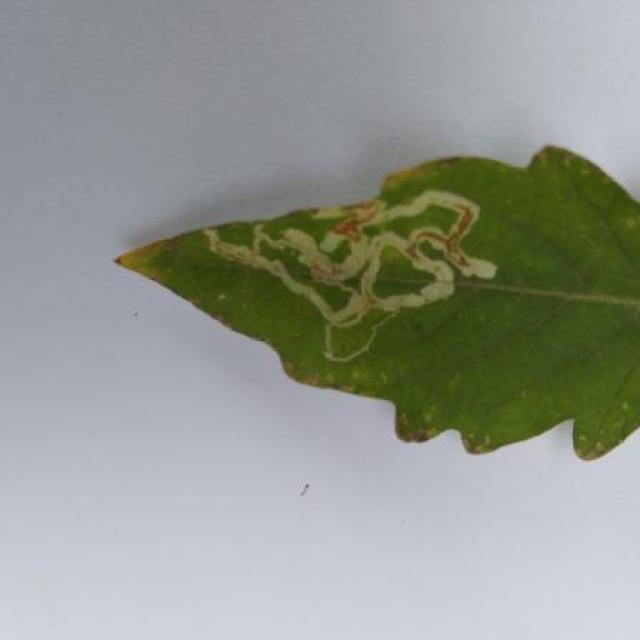Leaf Miner: (114, 139, 640, 462)
